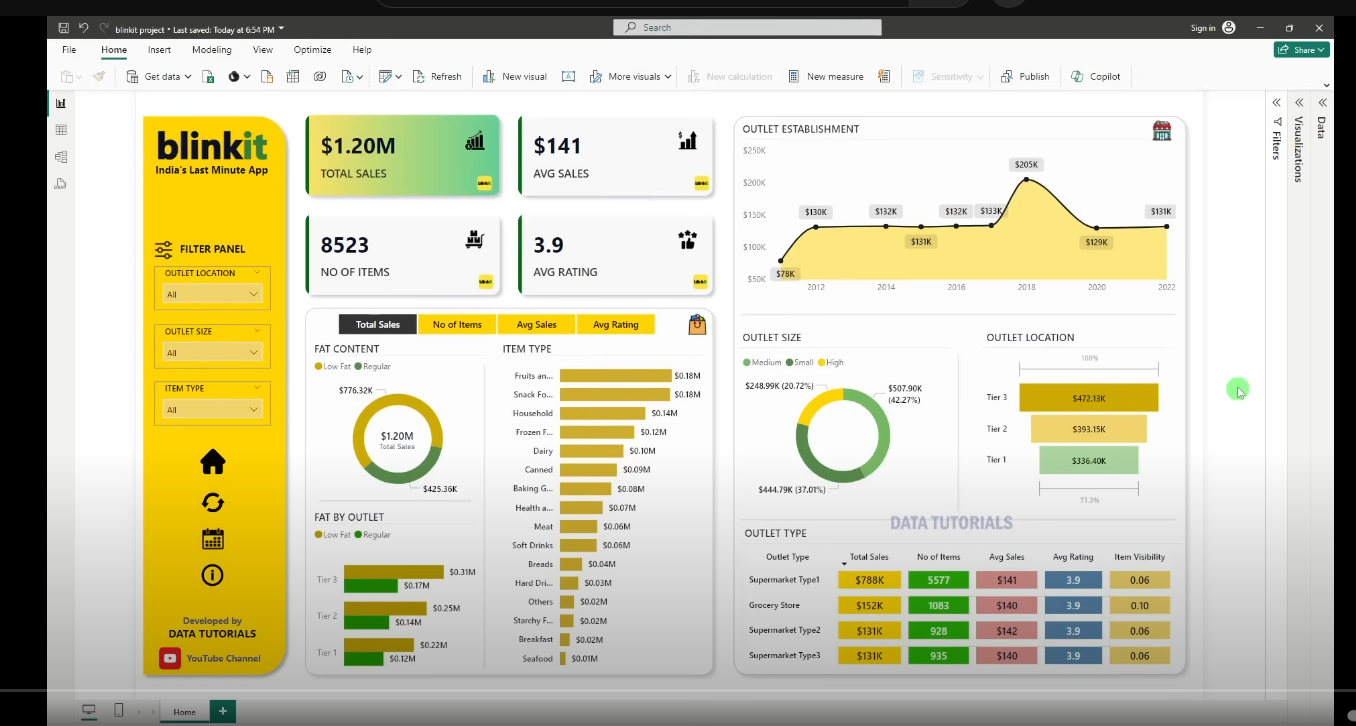

The dashboard page shown, as its layout file describes it:
{"tool":"powerbi","page":{"name":"Main-Page","canvas":[1400,850],"ordinal":0},"visuals":[{"type":"shape","box":[0,0,240.4,850.6],"z":0},{"type":"textbox","box":[13.1,18.8,214.1,82.6],"z":1000},{"type":"textbox","box":[13.1,80.7,214.1,41.3],"z":2000},{"type":"cardVisual","fields":{"Data":["BlinkIT Grocery Data.Total Sales","BlinkIT Grocery Data.Avg Sales","BlinkIT Grocery Data.No of Items","BlinkIT Grocery Data.Avg Rating"]},"box":[234.5,0,582,304.6],"z":3000},{"type":"shape","box":[240.4,289.2,582.1,561.5],"z":4000},{"type":"slicer","fields":{"Values":["Metrics.Metrics"]},"box":[255.4,304.2,484.5,48.8],"z":5000},{"type":"donutChart","title":"Fat Content","fields":{"Y":["BlinkIT Grocery Data.Total Sales"],"Category":["BlinkIT Grocery Data.Item Fat Content"]},"box":[255.4,353,276,217.8],"z":6000},{"type":"cardVisual","fields":{"Data":["BlinkIT Grocery Data.Total Sales"]},"box":[341.8,443.2,99.5,90.1],"z":7000},{"type":"clusteredBarChart","title":"Fat Content By Outlet","fields":{"Y":["BlinkIT Grocery Data.Total Sales"],"Category":["BlinkIT Grocery Data.Outlet Location Type"],"Series":["BlinkIT Grocery Data.Item Fat Content"]},"box":[251.6,591.5,279.8,244.1],"z":8000},{"type":"shape","box":[251.6,565.2,279.8,26.3],"z":9000},{"type":"shape","box":[497.6,353,71.4,482.6],"z":10000},{"type":"barChart","title":"ITEM TYPE","fields":{"Y":["BlinkIT Grocery Data.Total Sales"],"Category":["BlinkIT Grocery Data.Item Type"]},"box":[533.3,353,276,497.6],"z":11000},{"type":"shape","box":[809.3,16.9,582.1,833.7],"z":12000},{"type":"lineChart","fields":{"Y":["BlinkIT Grocery Data.Total Sales"],"Category":["BlinkIT Grocery Data.Outlet Establishment Year"]},"box":[822.5,18.8,554,270.4],"z":13000},{"type":"shape","box":[820.6,277.9,555.8,26.3],"z":14000},{"type":"donutChart","title":"Sales By Outlet Size","fields":{"Y":["BlinkIT Grocery Data.Total Sales"],"Category":["BlinkIT Grocery Data.Outlet Size"]},"box":[824.4,304.2,276,236.6],"z":15000},{"type":"shape","box":[1062.8,304.2,71.4,232.8],"z":16000},{"type":"funnel","title":"Sales By Outlet Location","fields":{"Y":["Sum(BlinkIT Grocery Data.Sales)"],"Category":["BlinkIT Grocery Data.Outlet Location Type"]},"box":[1100.4,292.9,276,244.1],"z":17000},{"type":"shape","box":[816.8,531.4,555.8,46.9],"z":18000},{"type":"pivotTable","title":"Metrics By Outlet Type","fields":{"Rows":["BlinkIT Grocery Data.Outlet Type"],"Values":["BlinkIT Grocery Data.Total Sales","BlinkIT Grocery Data.Avg Sales","BlinkIT Grocery Data.Avg Rating","BlinkIT Grocery Data.No of Items"]},"box":[816.8,570.9,569,277.9],"z":19000},{"type":"slicer","fields":{"Values":["BlinkIT Grocery Data.Outlet Location Type"]},"box":[13.1,253.5,214.1,73.2],"z":20000},{"type":"slicer","fields":{"Values":["BlinkIT Grocery Data.Outlet Size"]},"box":[13.1,341.8,214.1,73.2],"z":21000},{"type":"slicer","fields":{"Values":["BlinkIT Grocery Data.Item Type"]},"box":[13.1,433.8,214.1,73.2],"z":22000},{"type":"textbox","box":[33.8,206.6,172.8,46.9],"z":23000}]}

Visuals, with their boxes on the page's 1400x850 design canvas (x1, y1, x2, y2). These are canvas units, not pixel positions in the 1356x726 screenshot, which may show the page scaled, cropped or inside an application window:
shape: 0:0:240:851
textbox: 13:19:227:101
textbox: 13:81:227:122
cardVisual - BlinkIT Grocery Data.Total Sales x BlinkIT Grocery Data.Avg Sales: 234:0:816:305
shape: 240:289:822:851
slicer - Metrics.Metrics: 255:304:740:353
"Fat Content" donutChart: 255:353:531:571
cardVisual - BlinkIT Grocery Data.Total Sales: 342:443:441:533
"Fat Content By Outlet" clusteredBarChart: 252:592:531:836
shape: 252:565:531:592
shape: 498:353:569:836
"ITEM TYPE" barChart: 533:353:809:851
shape: 809:17:1391:851
lineChart - BlinkIT Grocery Data.Total Sales x BlinkIT Grocery Data.Outlet Establishment Year: 822:19:1376:289
shape: 821:278:1376:304
"Sales By Outlet Size" donutChart: 824:304:1100:541
shape: 1063:304:1134:537
"Sales By Outlet Location" funnel: 1100:293:1376:537
shape: 817:531:1373:578
"Metrics By Outlet Type" pivotTable: 817:571:1386:849
slicer - BlinkIT Grocery Data.Outlet Location Type: 13:254:227:327
slicer - BlinkIT Grocery Data.Outlet Size: 13:342:227:415
slicer - BlinkIT Grocery Data.Item Type: 13:434:227:507
textbox: 34:207:207:254
